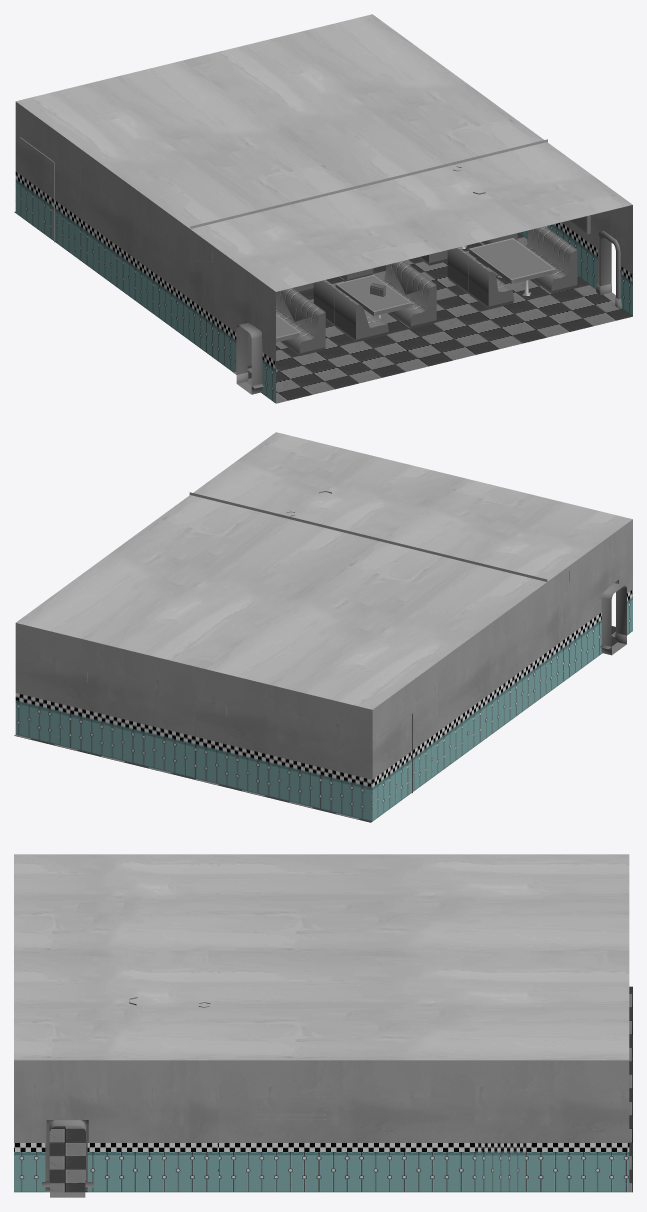
Rendered from MHS_Cafeteria_L3_R2_optimized.fbx.
The picture shows the model from 3 angles, top to bottom: view 1: azimuth 30°, elevation 25°; view 2: azimuth 150°, elevation 25°; view 3: azimuth 270°, elevation 25°; orthographic projection. The views are drawn at different scales.
Visible parts, largest first — view 1: lightmap0, lightmap1, lightmap-1; view 2: lightmap0, lightmap-1, lightmap1; view 3: lightmap0.
Boxes of the visible parts, x1=… form: lightmap0: x1=14, y1=14, x2=632, y2=403; lightmap1: x1=20, y1=137, x2=590, y2=368; lightmap-1: x1=236, y1=236, x2=615, y2=394; lightmap0: x1=14, y1=432, x2=632, y2=822; lightmap-1: x1=601, y1=583, x2=626, y2=655; lightmap1: x1=87, y1=491, x2=569, y2=793; lightmap0: x1=14, y1=854, x2=632, y2=1192.
Size of the model in its own units: 20.61 by 6.01 by 24.92.
